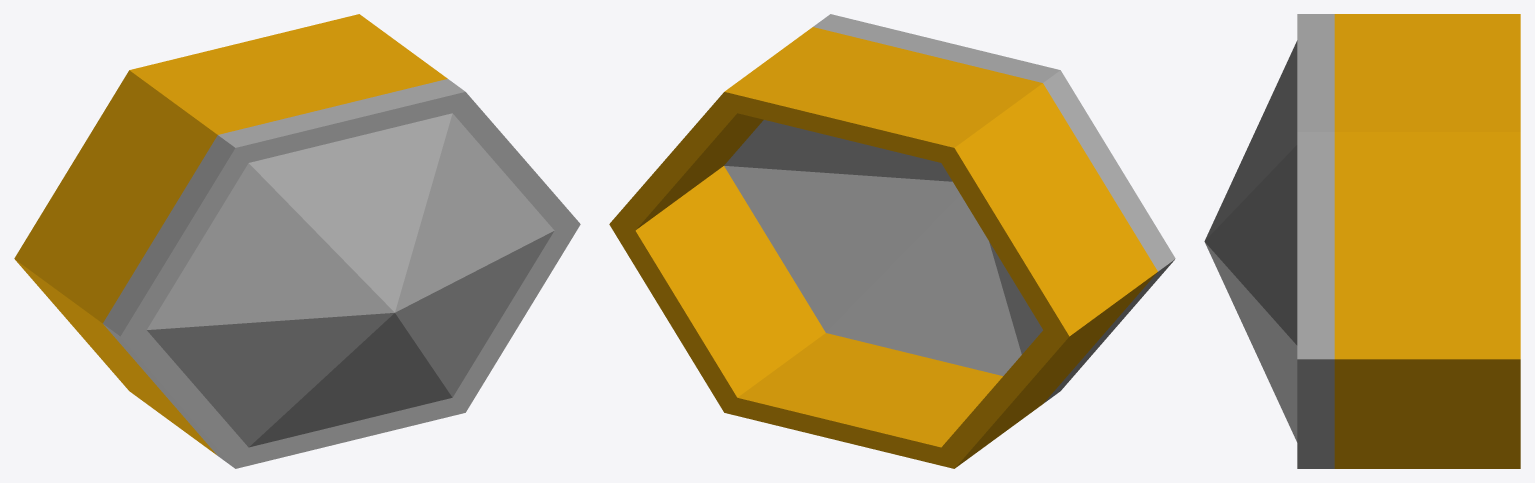
Rendered from model_hiveCell.fbx.
3 renders of one model, left to right at view 1: azimuth 30°, elevation 25°; view 2: azimuth 150°, elevation 25°; view 3: azimuth 270°, elevation 25°, orthographic. The views are drawn at different scales.
Parts seen in each view (by area): view 1: geo_back, geo_upRight, geo_up, geo_downRight; view 2: geo_back, geo_upRight, geo_downLeft, geo_up, geo_down, geo_downRight, geo_upLeft; view 3: geo_upLeft, geo_back, geo_up, geo_downLeft.
Part boxes in pixels (<box>): geo_back: <box>103,79,580,468</box>; geo_upRight: <box>14,70,217,323</box>; geo_up: <box>129,14,447,134</box>; geo_downRight: <box>15,259,216,454</box>; geo_back: <box>724,14,1175,402</box>; geo_upRight: <box>941,83,1157,336</box>; geo_downLeft: <box>609,166,825,412</box>; geo_up: <box>724,27,1042,162</box>; geo_down: <box>724,333,1002,468</box>; geo_downRight: <box>941,272,1157,468</box>; geo_upLeft: <box>609,92,763,230</box>; geo_upLeft: <box>1334,132,1520,359</box>; geo_back: <box>1204,14,1334,468</box>; geo_up: <box>1334,14,1520,131</box>; geo_downLeft: <box>1334,359,1520,468</box>.
Size of the model in its own units: 15 by 10 by 8.5.
